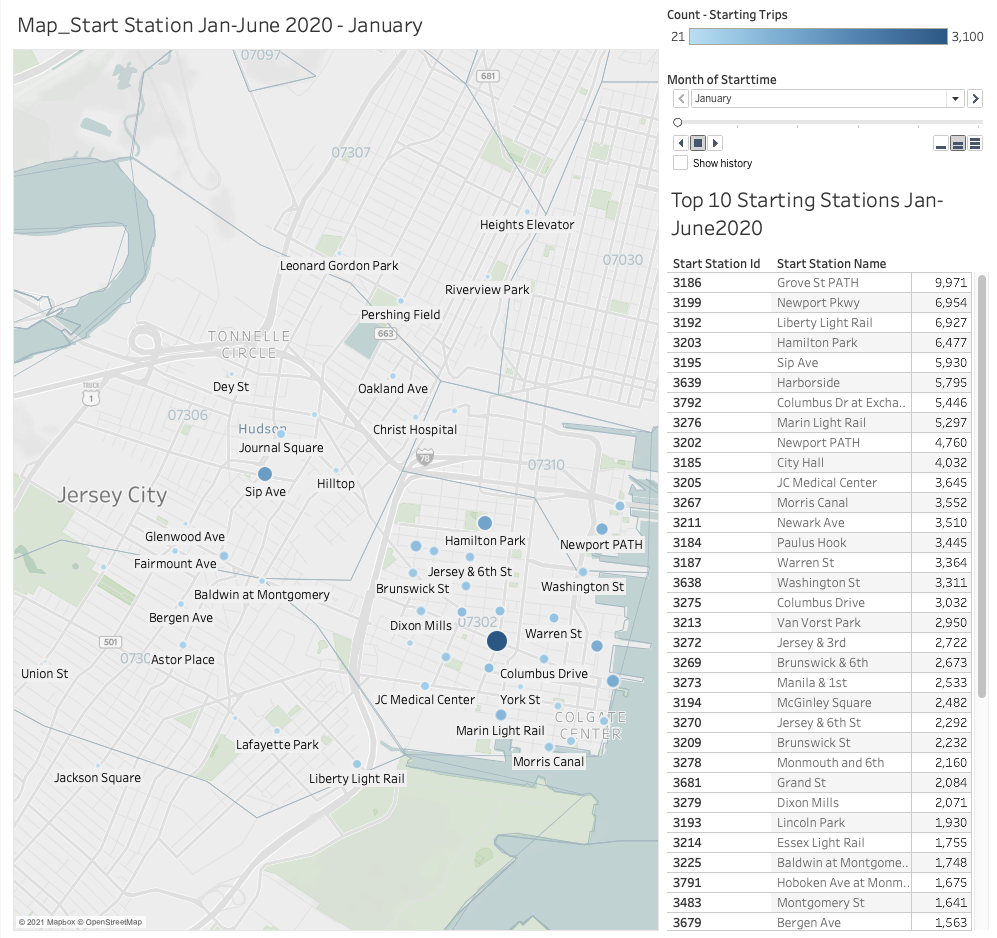

Layout of this report page (visuals, bound fields, positions):
{"tool":"tableau","page":{"name":"Map_Start/Month Dashboard","canvas":[1000,1000],"units":"permille","ordinal":8},"visuals":[{"type":"worksheet","box":[0,0,1000,1000]},{"type":"worksheet","param":"horz","box":[8,14.5,984,971]},{"type":"worksheet","box":[8,14.5,654,971]},{"type":"worksheet","title":"Map_Start Station Jan-June 2020","mark":"Automatic","rows":["start station latitude"],"cols":["start station longitude"],"box":[8,14.5,654,971]},{"type":"worksheet","param":"vert","box":[662,14.5,330,971]},{"type":"worksheet","title":"Map_Start Station Jan-June 2020","mark":"Automatic","rows":["start station latitude"],"cols":["start station longitude"],"param":"[federated.06zk79c0h9xah91e0ka0r1w2cczw].[usr:Calculation_375698739217461249:qk]","box":[662,14.5,330,117.8]},{"type":"worksheet","title":"Map_Start Station Jan-June 2020","mark":"Automatic","rows":["start station latitude"],"cols":["start station longitude"],"box":[662,132.2,330,199.3]},{"type":"worksheet","title":"Top 10 Starting Stations Jan-June2020","mark":"Automatic","rows":["start station id","start station name"],"box":[662,331.5,330,654]}]}

Visuals, with their boxes on the dashboard's canvas, which has no fixed pixel size, in thousandths of its width and height (x1, y1, x2, y2). These are canvas units, not pixel positions in the 997x938 screenshot, which may show the page scaled, cropped or inside an application window:
worksheet: 0/0/1000/1000
worksheet: 8/14/992/986
worksheet: 8/14/662/986
"Map_Start Station Jan-June 2020" worksheet: 8/14/662/986
worksheet: 662/14/992/986
"Map_Start Station Jan-June 2020" worksheet: 662/14/992/132
"Map_Start Station Jan-June 2020" worksheet: 662/132/992/332
"Top 10 Starting Stations Jan-June2020" worksheet: 662/332/992/986
